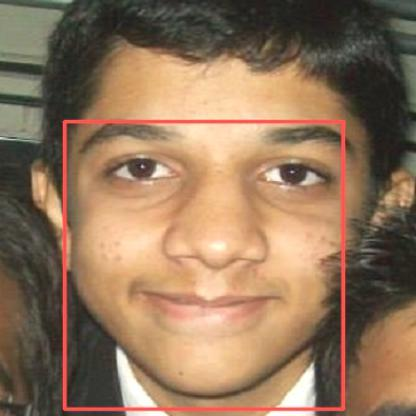without_mask: (64, 121, 343, 409)
